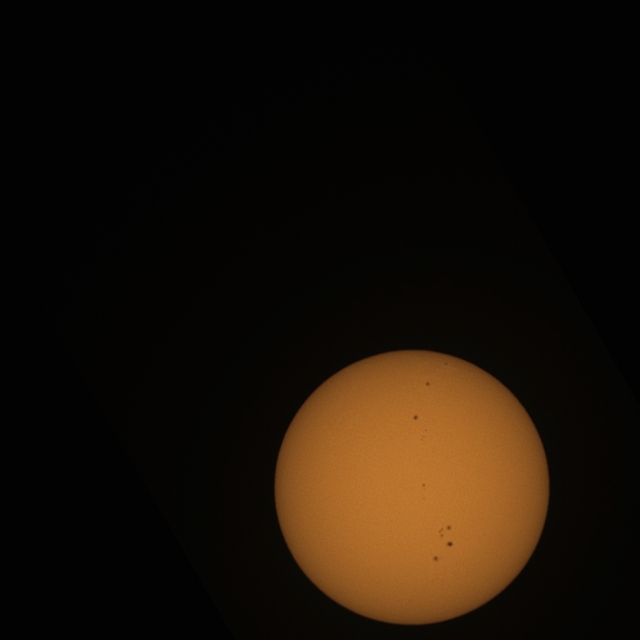sunspot: (438, 525, 453, 543), (445, 540, 453, 548), (438, 528, 445, 536), (433, 555, 440, 562), (412, 415, 419, 421), (446, 525, 452, 531), (425, 381, 431, 386), (422, 483, 426, 489), (444, 361, 448, 365)
